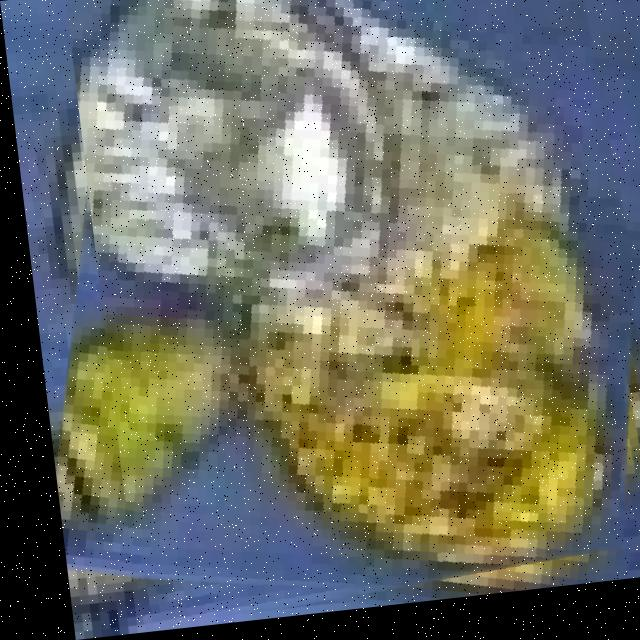litter: (73, 0, 632, 596)
